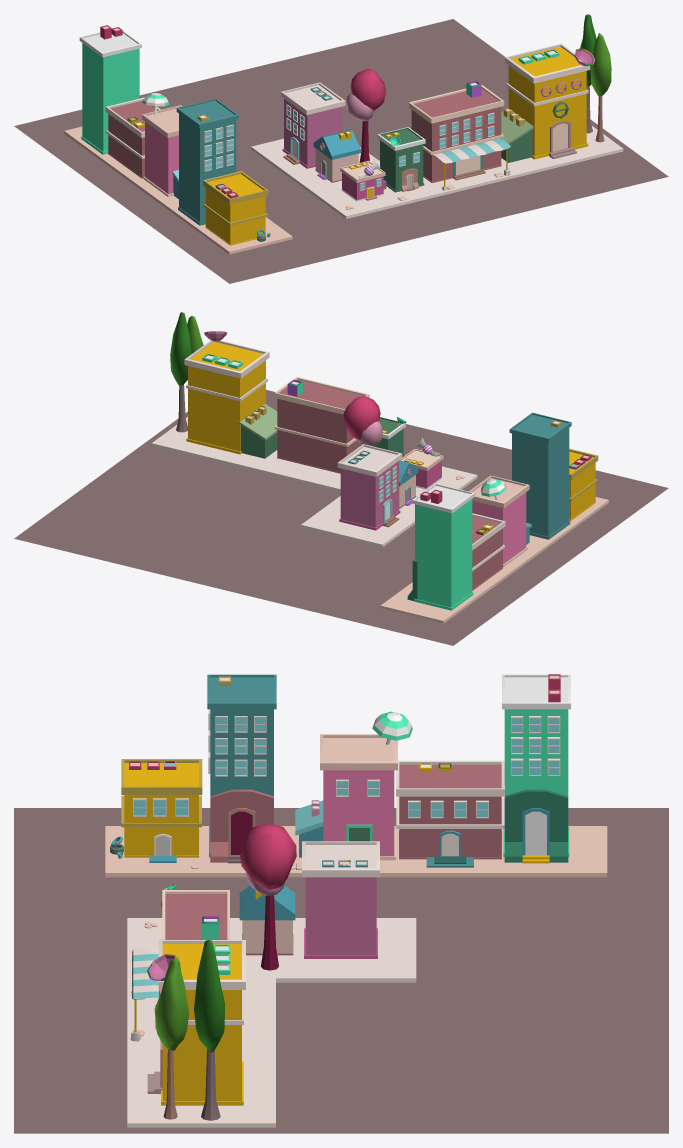
Rendered from candy_city.fbx.
3 renders of one model, top to bottom at view 1: azimuth 30°, elevation 25°; view 2: azimuth 150°, elevation 25°; view 3: azimuth 270°, elevation 25°, orthographic. The views are drawn at different scales.
Parts seen in each view (by area): view 1: pPlane2, pCube186, pCube118, pCube176, pCube72, pCube31, pCube21, pCube73, pCube11, pCube187, pCube150, pCube69 (+11 smaller); view 2: pPlane2, pCube118, pCube176, pCube186, pCube31, pCube72, pCube73, pCube187, pCube11, pCube150, pCube21, pCube117 (+4 smaller); view 3: pPlane2, pCube186, pCube150, pCube187, pCube73, pCube118, pCube11, pCube21, pCube31, pCube176, pCube170, pCube72 (+13 smaller).
Boxes of the visible parts, x1,y1,x2,y2 form: pPlane2: (14, 19, 668, 283); pCube186: (251, 126, 623, 218); pCube118: (505, 43, 590, 159); pCube176: (79, 30, 141, 154); pCube72: (409, 84, 504, 182); pCube31: (176, 98, 238, 225); pCube21: (203, 171, 268, 245); pCube73: (281, 82, 345, 168); pCube11: (142, 105, 182, 196); pCube187: (64, 126, 292, 254); pCube150: (105, 97, 160, 178); pCube69: (377, 127, 425, 192); pPlane2: (14, 390, 668, 645); pCube118: (184, 340, 269, 454); pCube176: (412, 483, 474, 610); pCube186: (151, 417, 477, 547); pCube31: (509, 412, 571, 539); pCube72: (274, 376, 369, 473); pCube73: (337, 444, 402, 530); pCube187: (380, 497, 608, 623); pCube11: (469, 475, 529, 567); pCube150: (472, 513, 505, 590); pCube21: (569, 448, 598, 520); pCube117: (237, 404, 277, 458); pPlane2: (14, 808, 668, 1133); pCube186: (127, 918, 416, 1127); pCube150: (396, 760, 504, 859); pCube187: (105, 826, 607, 877); pCube73: (302, 841, 379, 958); pCube118: (158, 940, 245, 1105); pCube11: (320, 734, 397, 860); pCube21: (121, 759, 202, 857); pCube31: (207, 674, 276, 857); pCube176: (502, 674, 570, 857); pCube170: (504, 789, 568, 862); pCube72: (162, 890, 229, 939).
Bounding box in the file's own units: 2139 × 558 × 1819.
